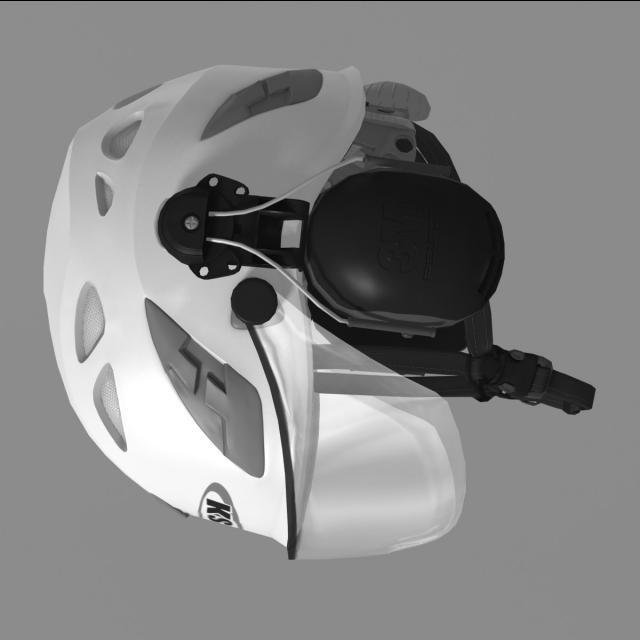safety_helmet: (43, 61, 471, 561)
